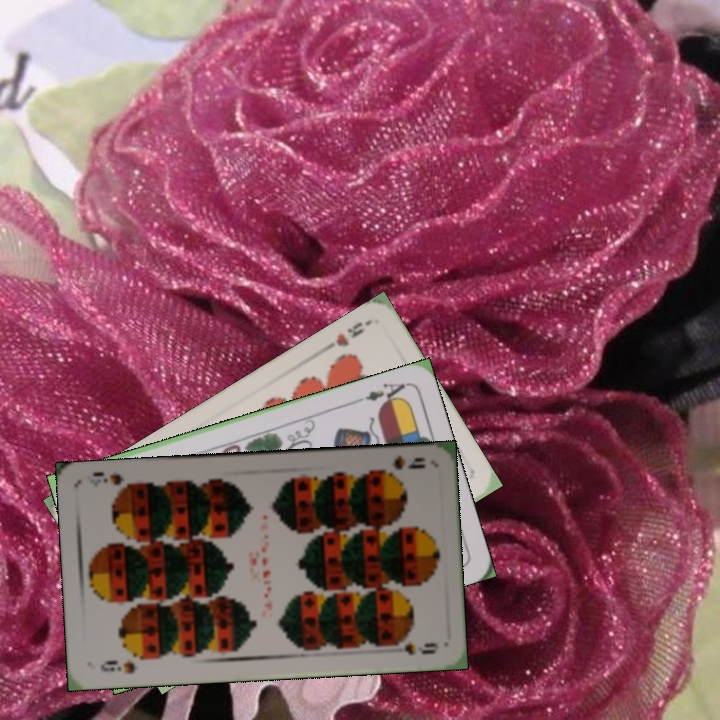EA: (353, 378, 410, 408)
H9: (319, 317, 367, 354)
S9: (371, 452, 428, 479), (97, 656, 139, 677)
